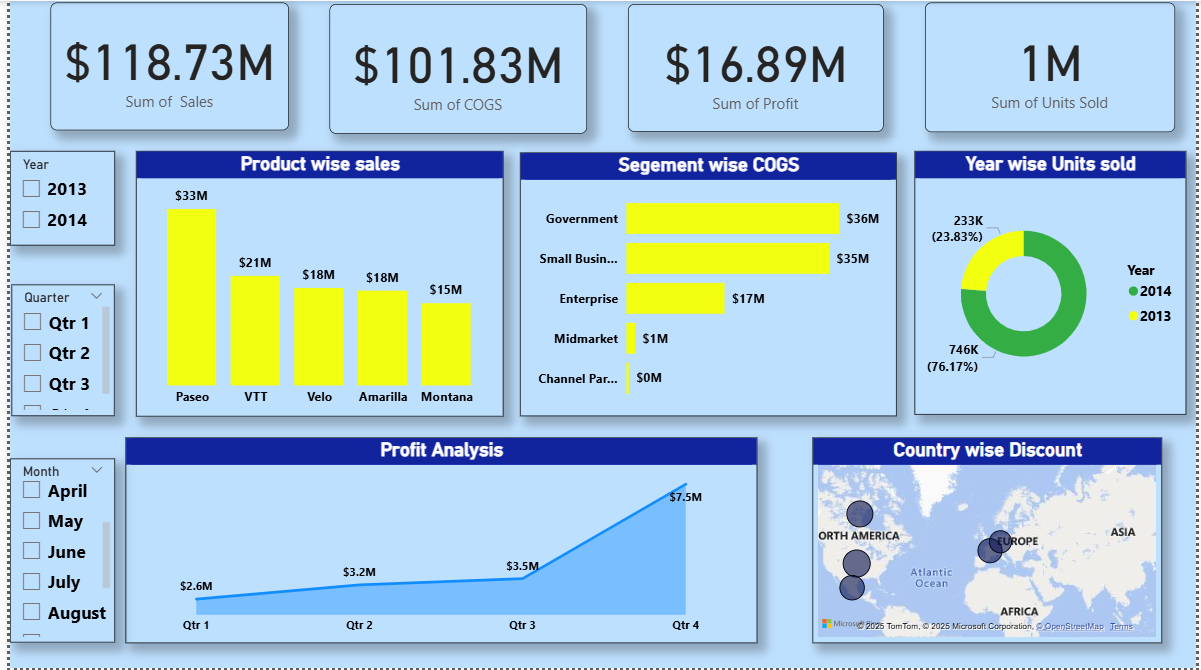

Layout of this report page (visuals, bound fields, positions):
{"tool":"powerbi","page":{"name":"Page 1","canvas":[1280,720],"ordinal":0},"visuals":[{"type":"card","fields":{"Values":["Sum(Sheet1. Sales)"]},"box":[43.5,1.9,257,138],"z":0},{"type":"card","fields":{"Values":["Sum(Sheet1.COGS)"]},"box":[345.2,3.8,277.8,139.8],"z":1000},{"type":"card","fields":{"Values":["Sum(Sheet1.Profit)"]},"box":[667.7,3.8,275.9,138],"z":2000},{"type":"card","fields":{"Values":["Sum(Sheet1.Units Sold)"]},"box":[988.4,1.9,270.2,139.8],"z":3000},{"type":"slicer","fields":{"Values":["Sheet1.Date.Variation.Date Hierarchy.Year"]},"box":[0,162.5,113.4,102],"z":3001},{"type":"slicer","fields":{"Values":["Sheet1.Date.Variation.Date Hierarchy.Quarter"]},"box":[1.9,306.1,111.5,141.7],"z":3002},{"type":"slicer","fields":{"Values":["Sheet1.Date.Variation.Date Hierarchy.Month"]},"box":[0,493.2,113.4,198.4],"z":3003},{"type":"columnChart","title":"Product wise sales","fields":{"Category":["Sheet1.Product"],"Y":["Sum(Sheet1. Sales)"]},"box":[136,161.9,396.7,286.6],"z":3004},{"type":"barChart","title":"Segement wise COGS","fields":{"Category":["Sheet1.Segment"],"Y":["Sum(Sheet1.COGS)"]},"box":[550.5,163.5,406.4,285],"z":3005},{"type":"donutChart","title":"Year wise Units sold","fields":{"Y":["Sum(Sheet1.Units Sold)"],"Category":["Sheet1.Year"]},"box":[976.4,161.9,293.1,285],"z":3006},{"type":"lineChart","title":" Profit Analysis","fields":{"Y":["Sum(Sheet1.Profit)"],"Category":["Sheet1.Date.Variation.Date Hierarchy.Year","Sheet1.Date.Variation.Date Hierarchy.Quarter","Sheet1.Date.Variation.Date Hierarchy.Month"]},"box":[124.7,471.2,681.7,221.8],"z":3007},{"type":"map","title":"Country wise Discount","fields":{"Category":["Sheet1.Country"],"Size":["Sum(Sheet1.Discounts)"]},"box":[866.3,471.2,377.3,221.8],"z":3008}]}

Visuals, with their boxes in screenshot pixels (x1, y1, x2, y2), scaled from the page's 1280x720 canvas onto the 1201x670 screenshot:
card - Sum(Sheet1. Sales): [41,2,282,130]
card - Sum(Sheet1.COGS): [324,4,585,134]
card - Sum(Sheet1.Profit): [626,4,885,132]
card - Sum(Sheet1.Units Sold): [927,2,1181,132]
slicer - Sheet1.Date.Variation.Date Hierarchy.Year: [0,151,106,246]
slicer - Sheet1.Date.Variation.Date Hierarchy.Quarter: [2,285,106,417]
slicer - Sheet1.Date.Variation.Date Hierarchy.Month: [0,459,106,644]
"Product wise sales" columnChart: [128,151,500,417]
"Segement wise COGS" barChart: [517,152,898,417]
"Year wise Units sold" donutChart: [916,151,1191,416]
" Profit Analysis" lineChart: [117,438,757,645]
"Country wise Discount" map: [813,438,1167,645]
